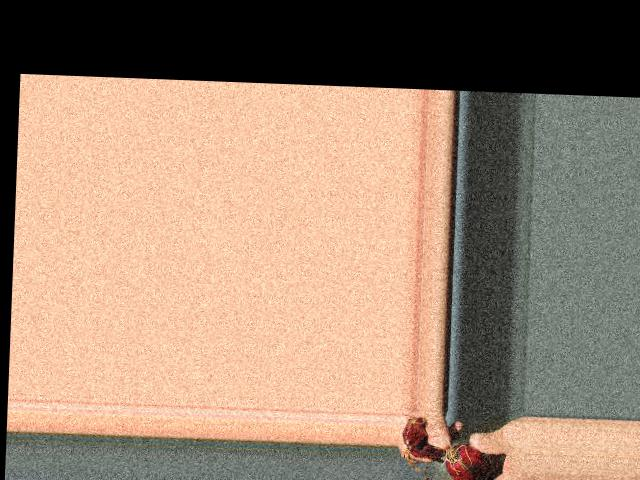onion: (445, 443, 485, 480)
